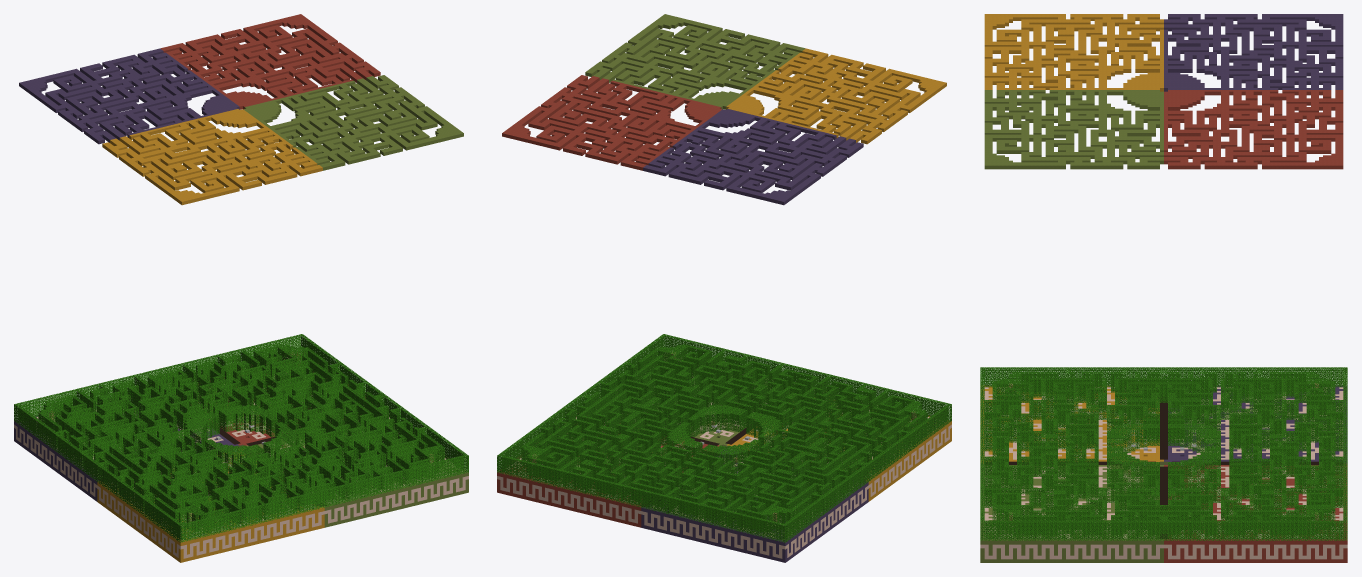
File: minecraft.obj
The picture shows the model from 3 angles, left to right: view 1: azimuth 30°, elevation 25°; view 2: azimuth 150°, elevation 25°; view 3: azimuth 270°, elevation 25°; orthographic projection. The views are drawn at different scales.
Bounding box in the file's own units: 90 × 107 × 90.
